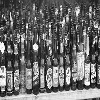beer: (25, 42, 33, 96)
